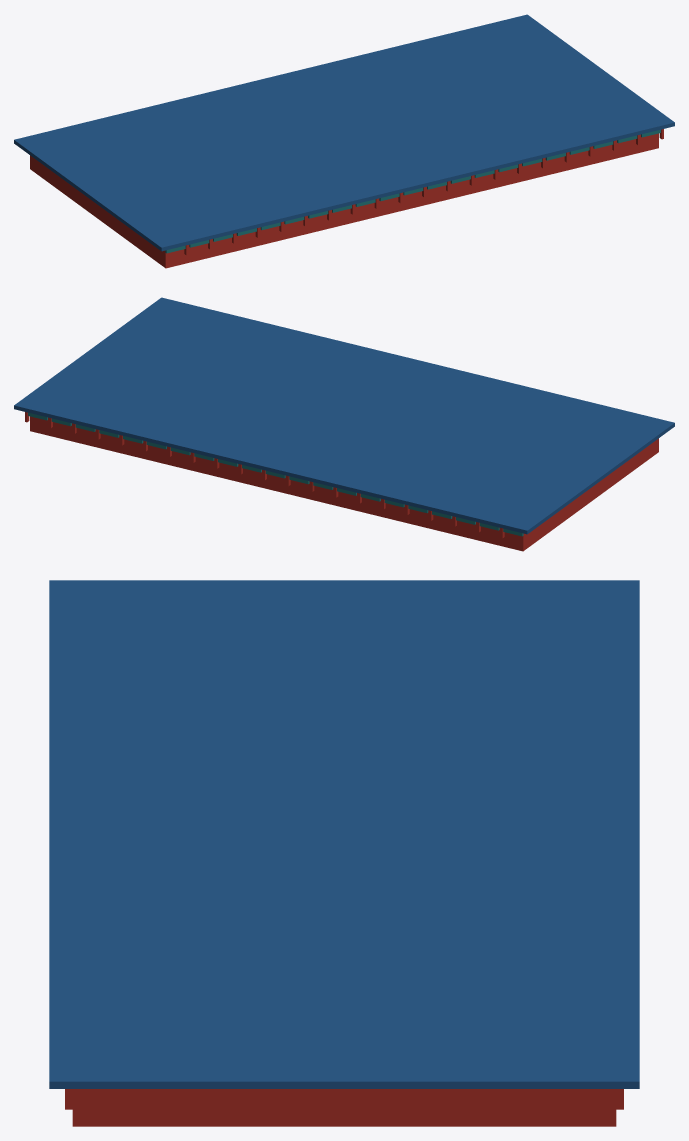
File: SM_30_Upper_Clerestory.fbx
3 renders of one model, top to bottom at view 1: azimuth 30°, elevation 25°; view 2: azimuth 150°, elevation 25°; view 3: azimuth 270°, elevation 25°, orthographic. The views are drawn at different scales.
Visible parts, largest first — view 1: Upper_Clerestory; view 2: Upper_Clerestory; view 3: Upper_Clerestory.
Boxes of the visible parts, x1,y1,x2,y2 form: Upper_Clerestory: (14, 14, 674, 268); Upper_Clerestory: (14, 297, 674, 551); Upper_Clerestory: (49, 580, 639, 1126).
Bounding box in the file's own units: 4320 × 2150 × 221.
